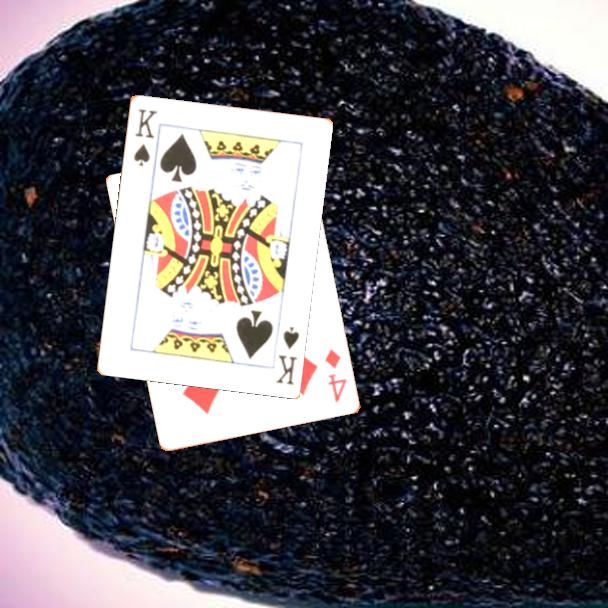d04: (322, 346, 350, 405)
s13: (130, 105, 160, 169), (272, 323, 302, 387)
